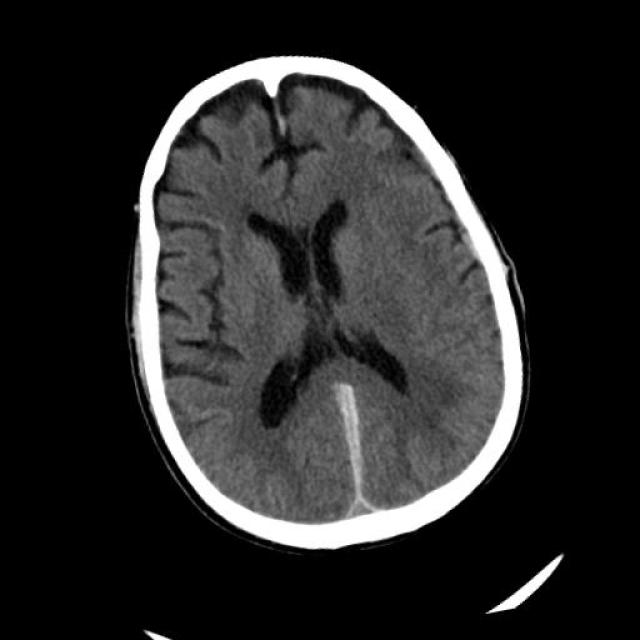Subdural: (304, 368, 418, 536)
